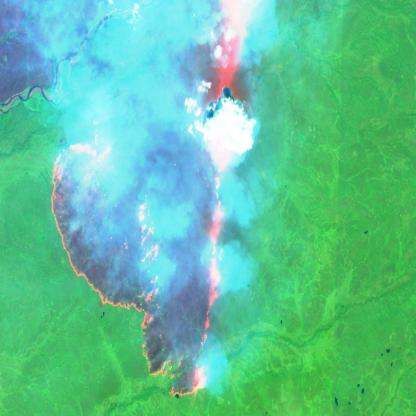fire: (49, 3, 246, 398)
